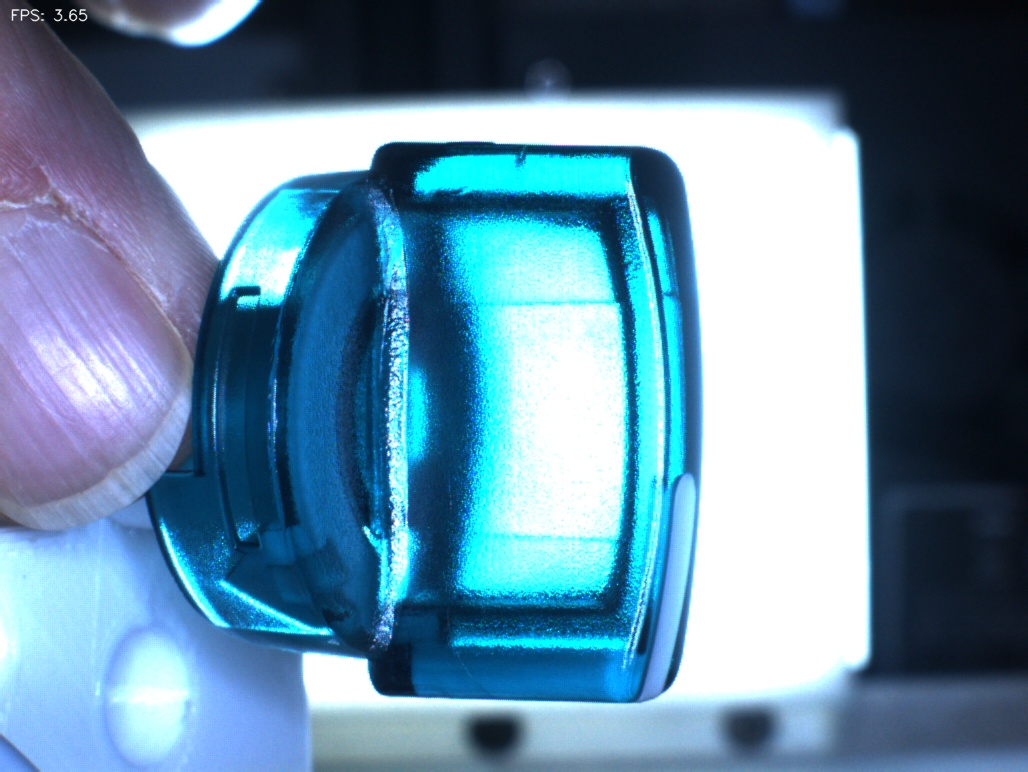Bulle: (482, 115, 566, 202)
